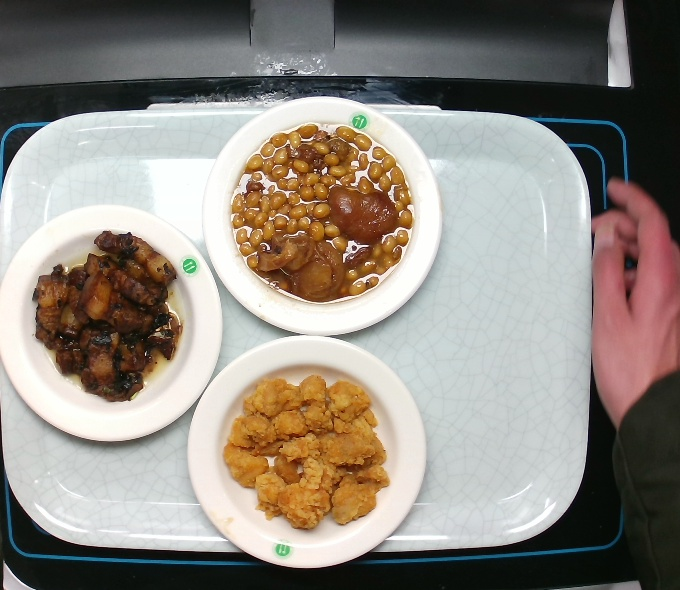wcq-GanCaiRou: (26, 224, 188, 407)
wcq-HuangDouZhuJiao: (220, 116, 421, 314)
wcq-JiMiHua: (219, 371, 398, 540)
